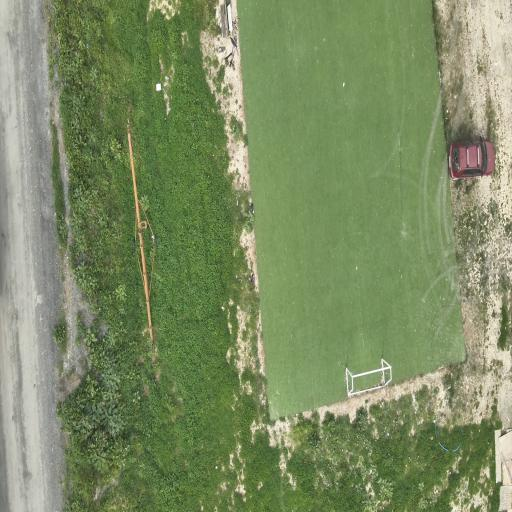car: (449, 140, 494, 179)
